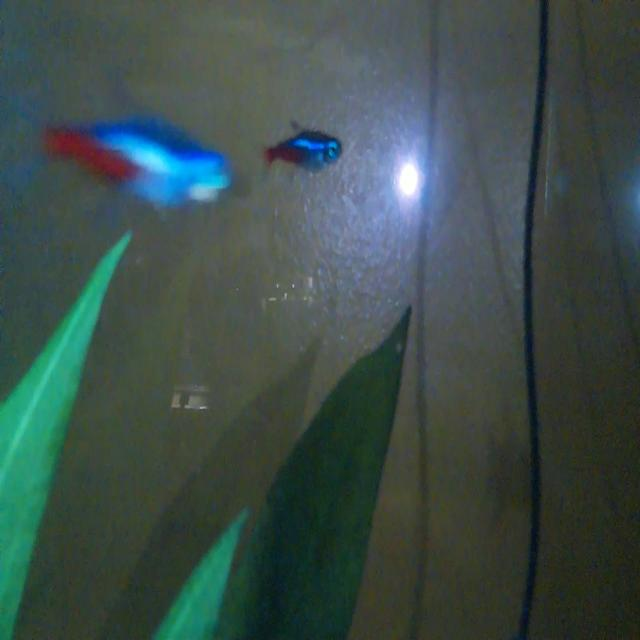fish: (262, 114, 344, 178)
